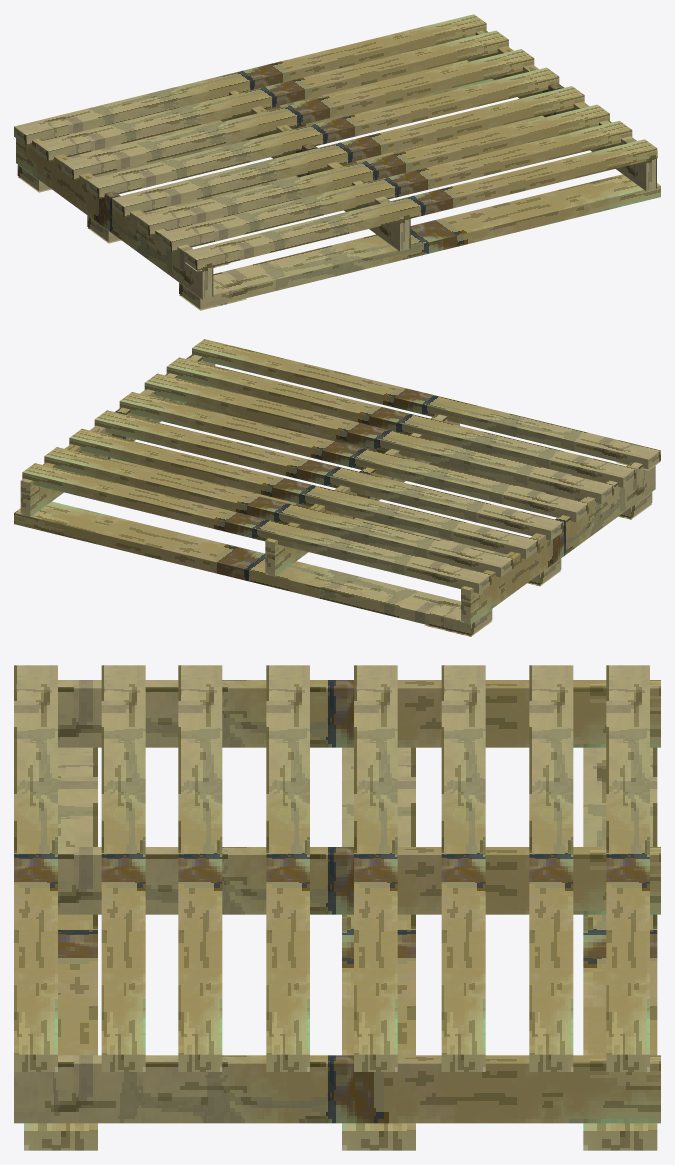
Rendered from woodPallet.gltf.
3 renders of one model, top to bottom at view 1: azimuth 30°, elevation 25°; view 2: azimuth 150°, elevation 25°; view 3: azimuth 270°, elevation 25°, orthographic. The views are drawn at different scales.
Parts seen in each view (by area): view 1: woodPallet; view 2: woodPallet; view 3: woodPallet.
Boxes of the visible parts, x1,y1,x2,y2 form: woodPallet: (14, 14, 660, 310); woodPallet: (14, 339, 660, 636); woodPallet: (14, 665, 660, 1150).
Bounding box in the file's own units: 21.29 × 2.34 × 14.75.
1 material, 1 textured.
